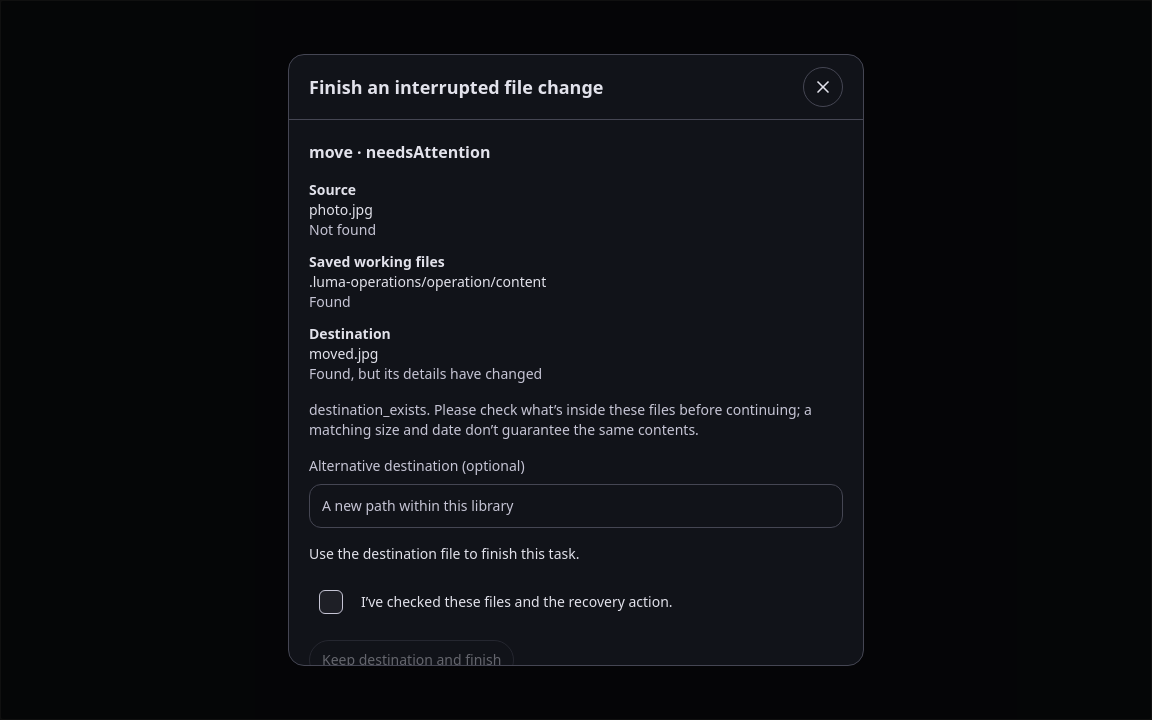
Scenario: operation recovery review › shows changed evidence errors and clears confirmation after a rejected recovery
Click the checkbox.
click(331, 602)  # box [309, 580, 353, 624]
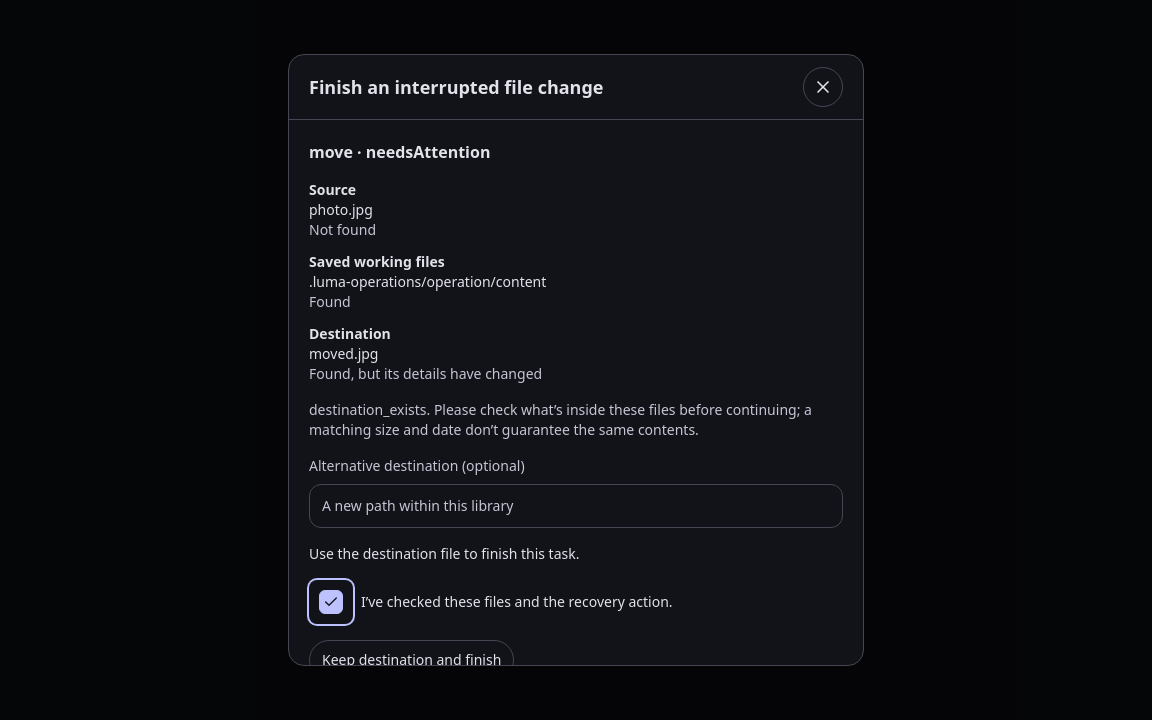
Click the button "Keep destination and finish".
click(412, 660)  # box [309, 640, 514, 680]
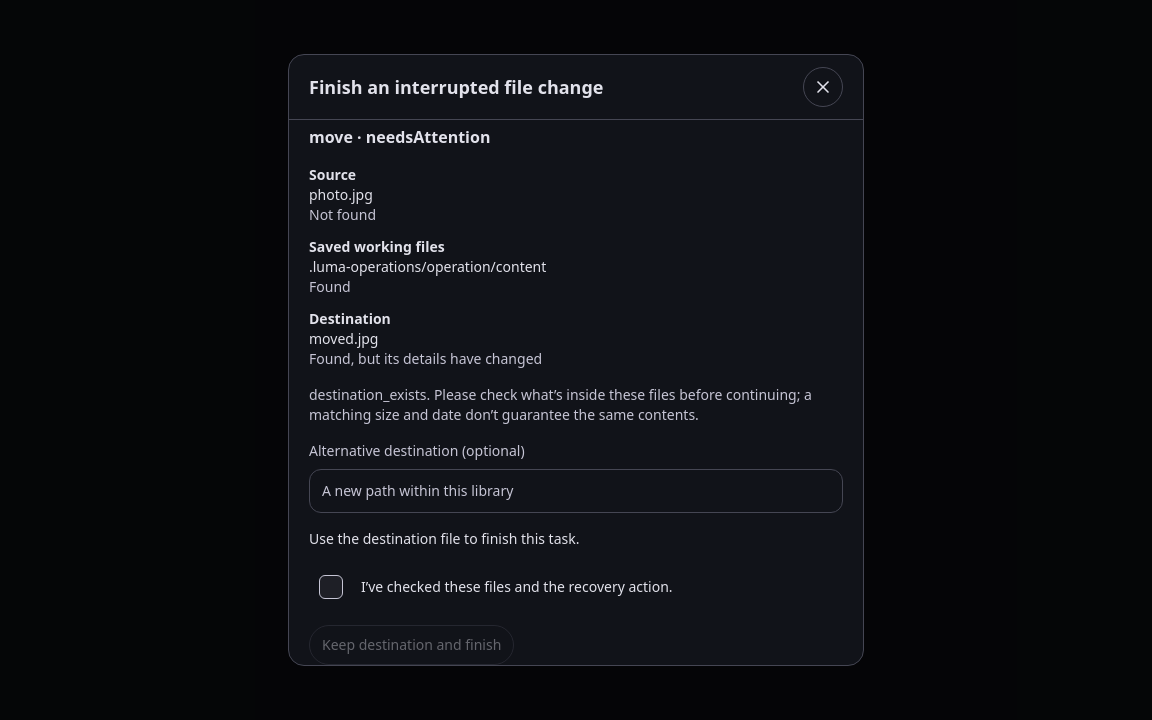
Expected: the checkbox is not checked, [309, 565, 353, 609]
Expected: the button "Keep destination and finish" is disabled, [309, 625, 514, 665]
